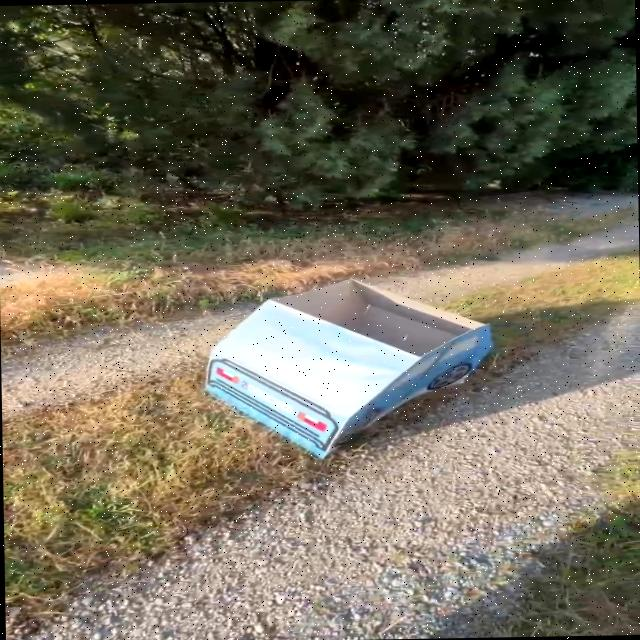blue_car: (165, 232, 535, 520)
